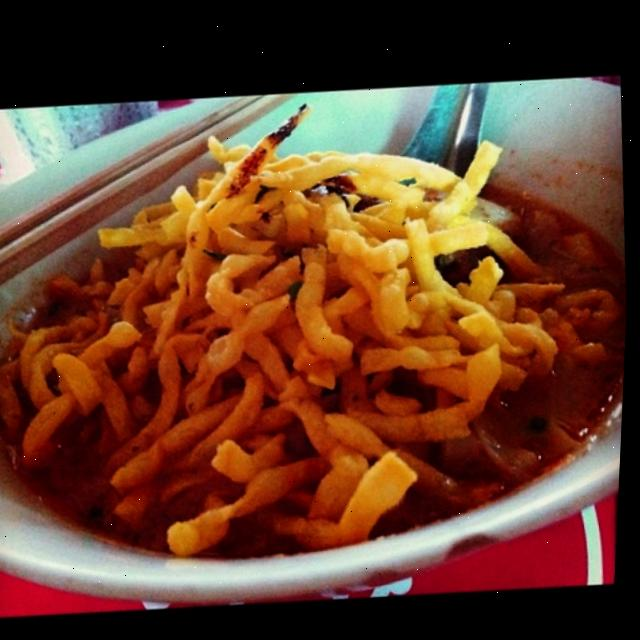面条主食: (0, 66, 638, 595)
